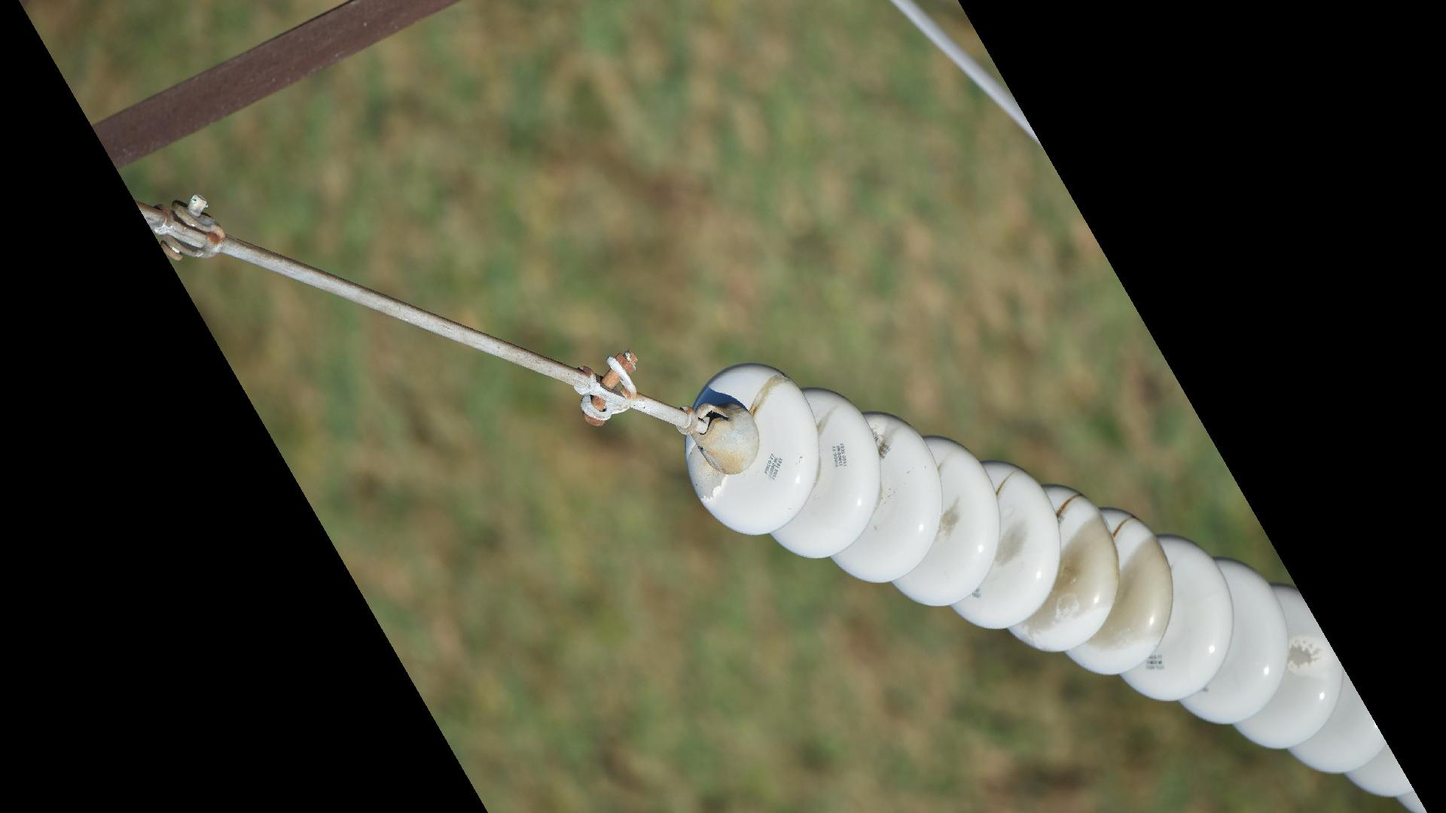insulator: (678, 359, 1427, 813)
insulator_flashover: (684, 438, 726, 504), (1286, 632, 1332, 678)
